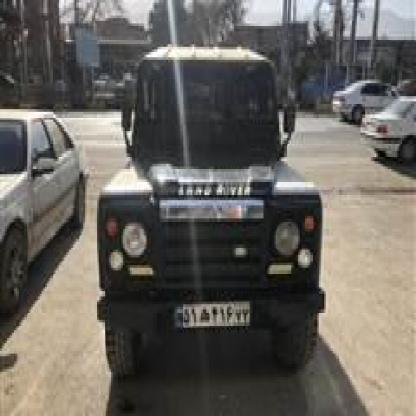Car: (99, 52, 319, 372), (0, 75, 81, 311), (317, 54, 399, 138), (355, 91, 416, 172)
